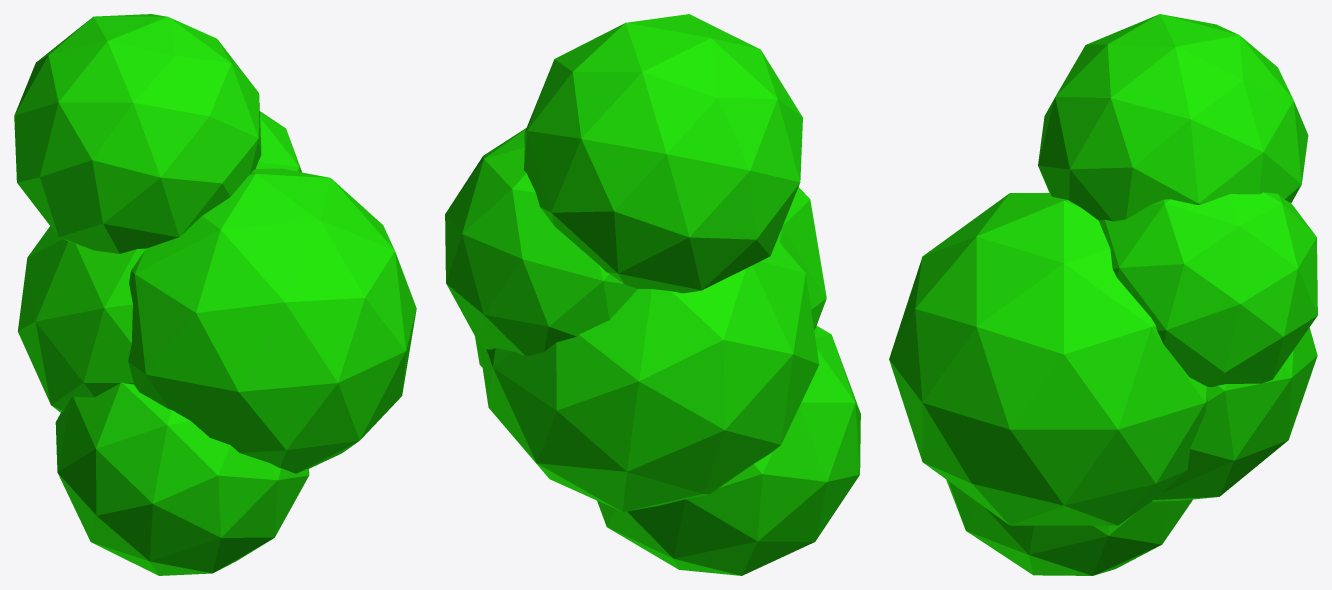
The model's file is bush 4.fbx.
3 views of the same model, side by side, from view 1: azimuth 30°, elevation 25°; view 2: azimuth 150°, elevation 25°; view 3: azimuth 270°, elevation 25° (orthographic). The views are drawn at different scales.
Parts seen in each view (by area): view 1: Icosphere.003; view 2: Icosphere.003; view 3: Icosphere.003.
Boxes of the visible parts, x1,y1,x2,y2 form: Icosphere.003: (14, 14, 416, 575); Icosphere.003: (445, 14, 860, 575); Icosphere.003: (889, 14, 1317, 575).
Bounding box in the file's own units: 221 × 336 × 245.
